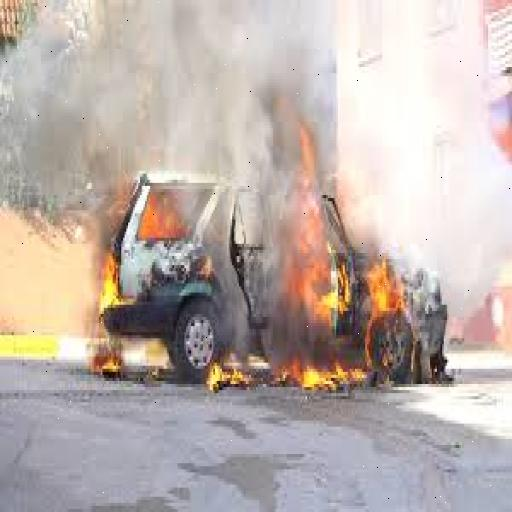fire: (85, 198, 432, 399)
